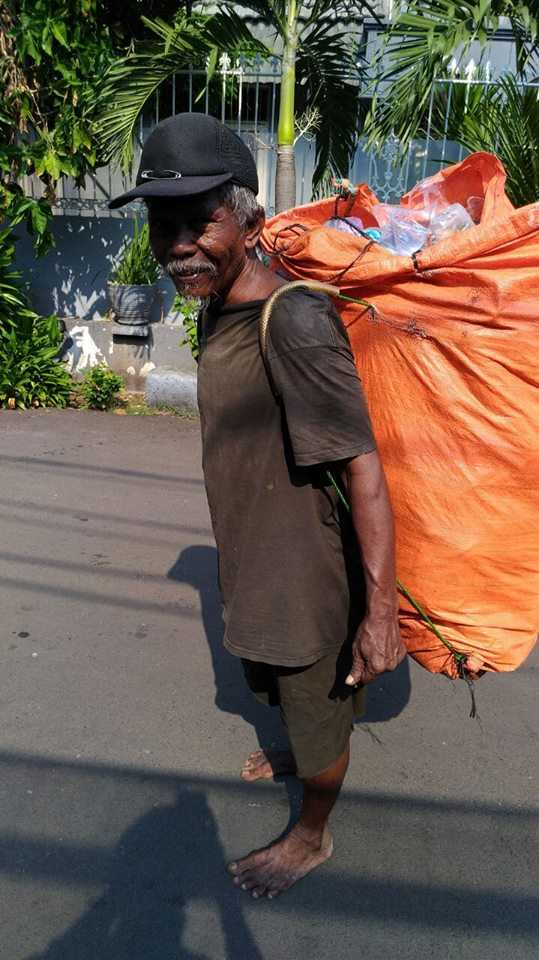pemulung: (86, 107, 539, 907)
